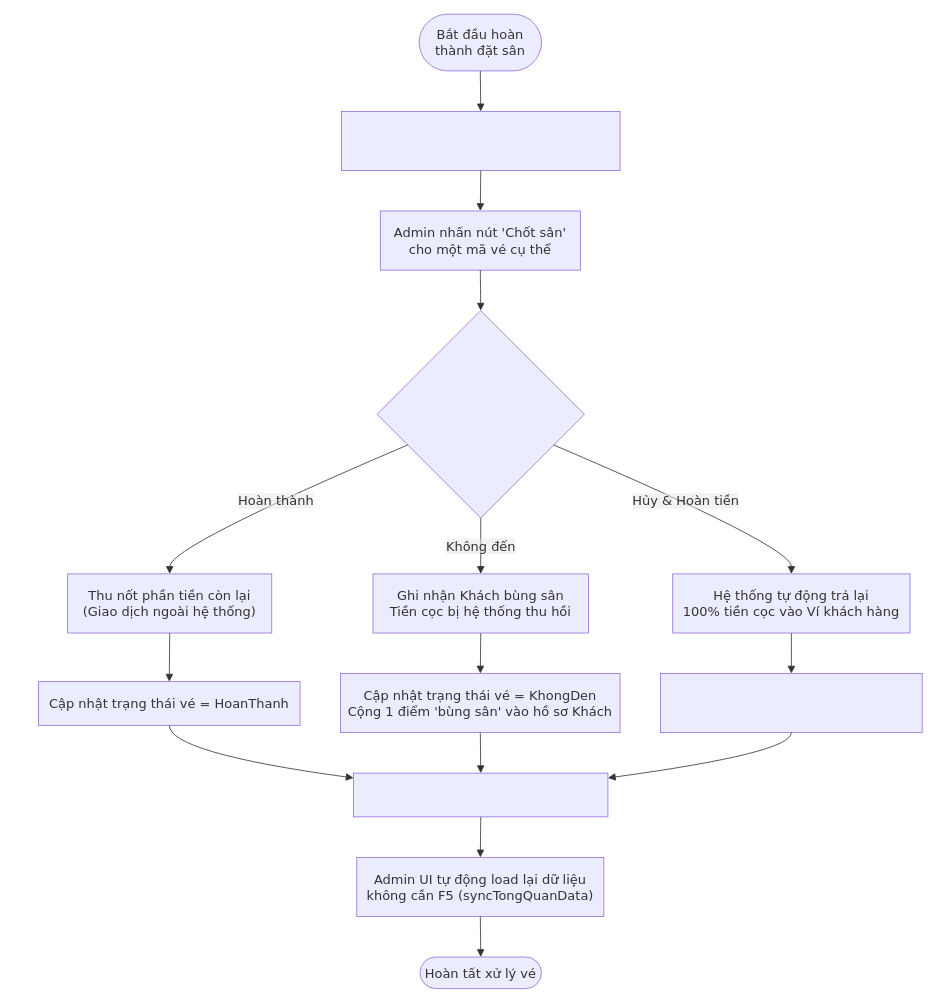
Image size: 936x1003. Some labels were removed from this diagram. The shapes that lost their labels are listed below. From the top down, each one's centre as x and y in pixels, then its label:
the point at 480,141: Admin mở màn hình Quản lý Đặt Sân (Lọc trạng thái DaCoc)
the point at 480,414: Admin chọn Trạng thái xử lý nào?
the point at 791,703: Cập nhật trạng thái vé = DaHuy Ghi nhận Lịch sử giao dịch cộng tiền
the point at 480,794: Lưu Data & Trả kết quả thành công
